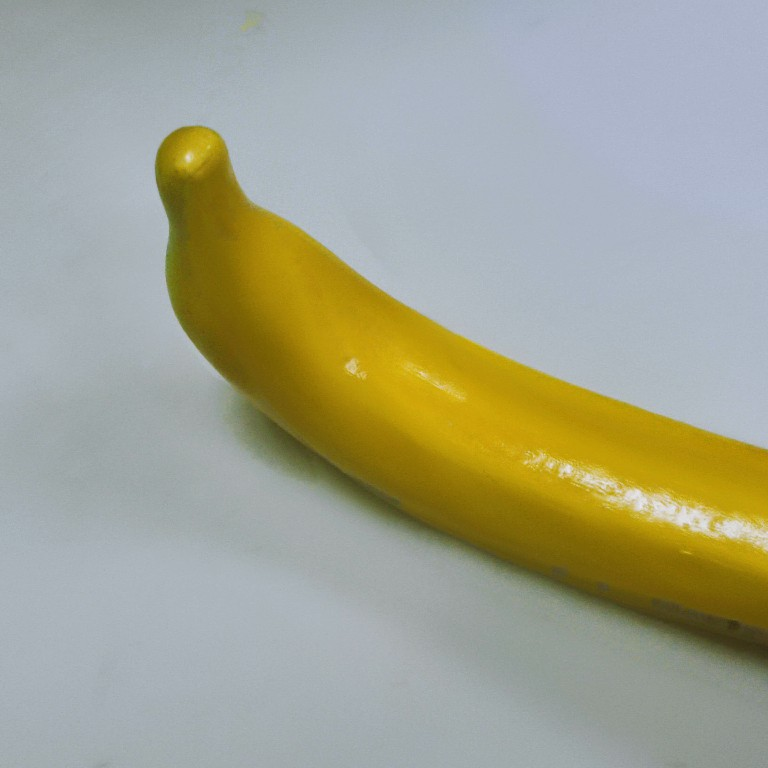fruit_banana: (148, 121, 768, 647)
